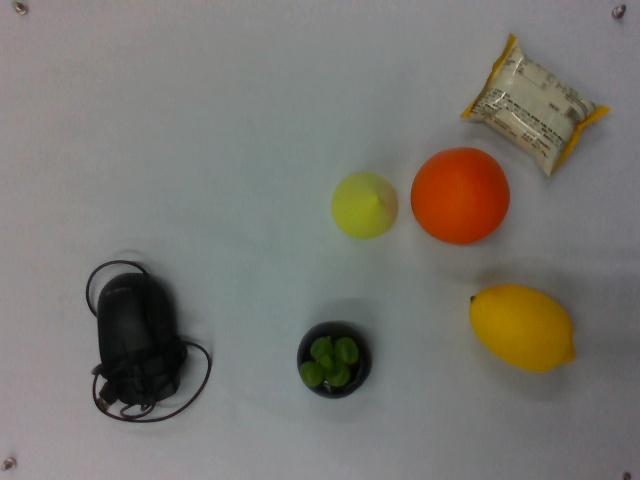cone: (328, 169, 401, 243)
dessert: (465, 31, 609, 176)
lemon: (463, 277, 580, 378)
mangosteen: (291, 316, 375, 399)
mouse: (81, 257, 211, 423)
orange: (408, 143, 513, 248)
